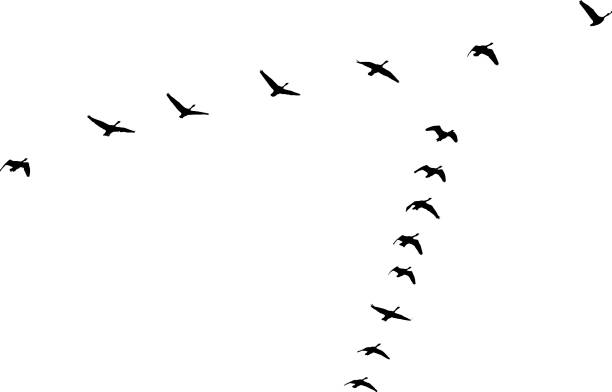goose: (255, 67, 303, 102), (83, 113, 137, 143), (163, 91, 213, 122), (354, 55, 401, 84), (368, 300, 413, 325), (466, 39, 502, 69), (422, 122, 462, 149), (575, 1, 612, 28), (402, 195, 441, 220), (1, 156, 36, 183), (411, 161, 451, 184), (391, 231, 425, 257), (339, 374, 383, 392), (355, 341, 392, 362), (387, 263, 417, 286)
